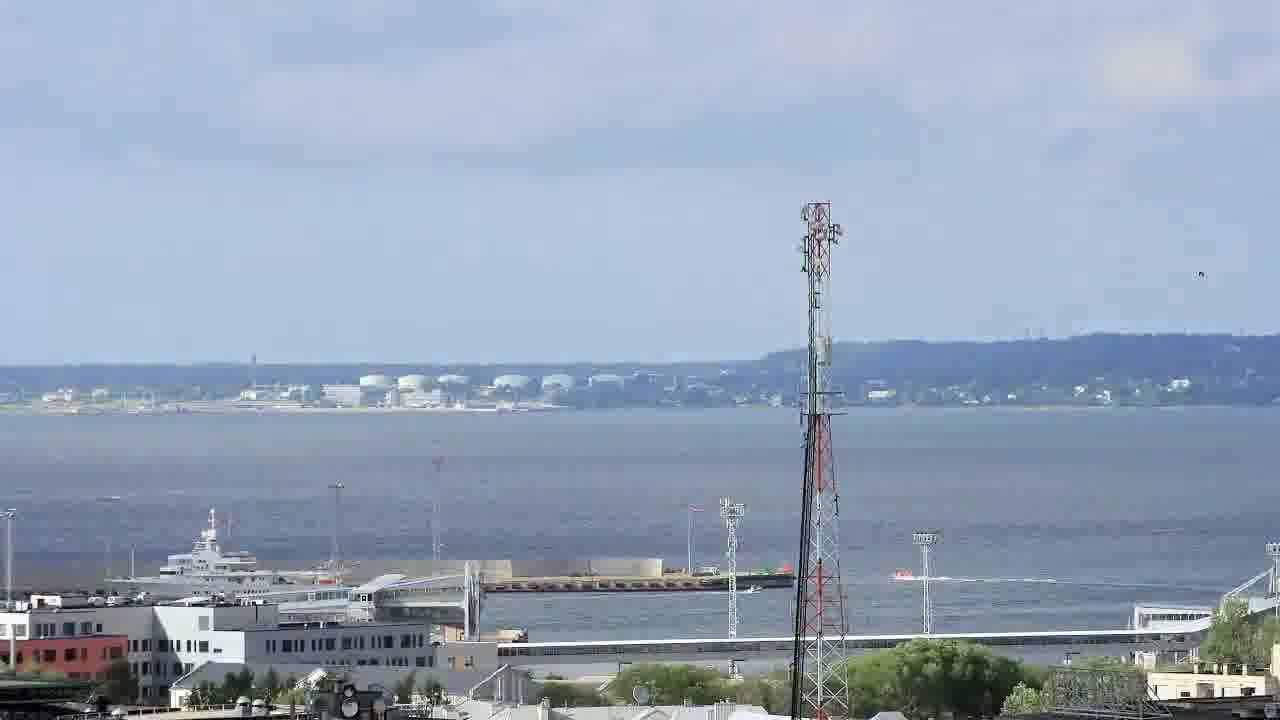type-0: (873, 552, 927, 591)
type-3: (73, 505, 390, 605)
